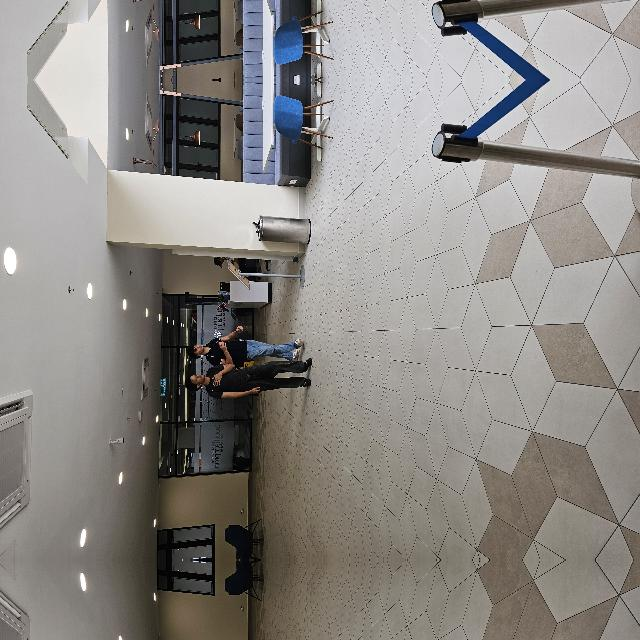obstacle: (384, 400, 480, 616), (384, 504, 479, 640), (372, 314, 481, 408), (270, 310, 302, 384), (314, 332, 352, 394)
person: (162, 263, 200, 393), (198, 268, 228, 392)
